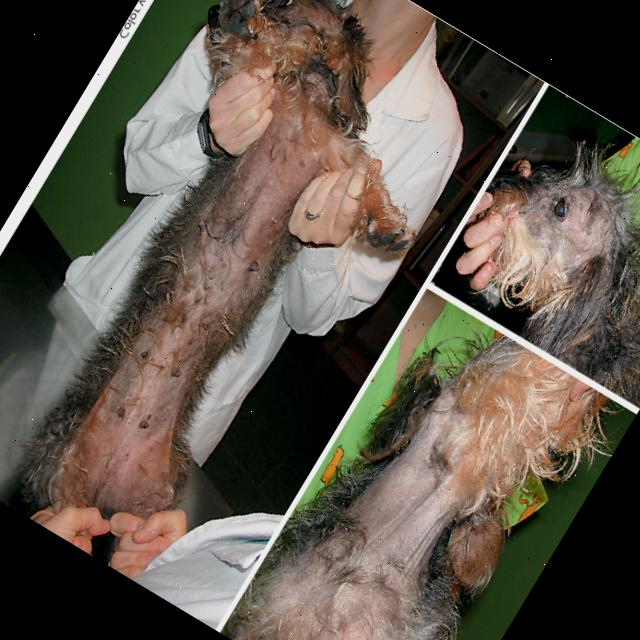cat-hairloss: (49, 119, 335, 516), (282, 415, 491, 640)
